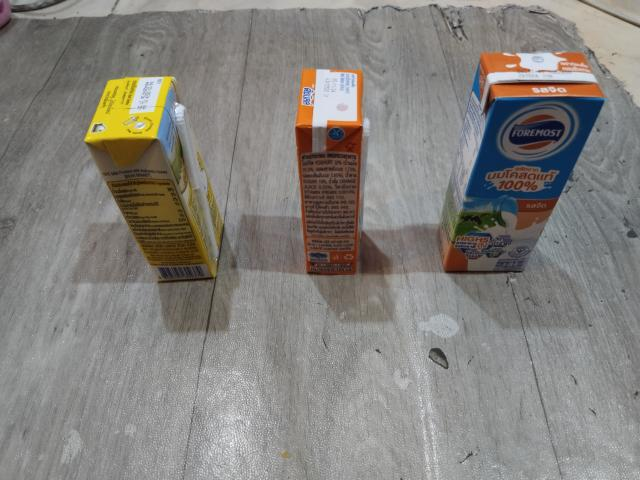drink_box: (429, 49, 613, 279), (83, 71, 233, 285), (299, 66, 369, 281)
